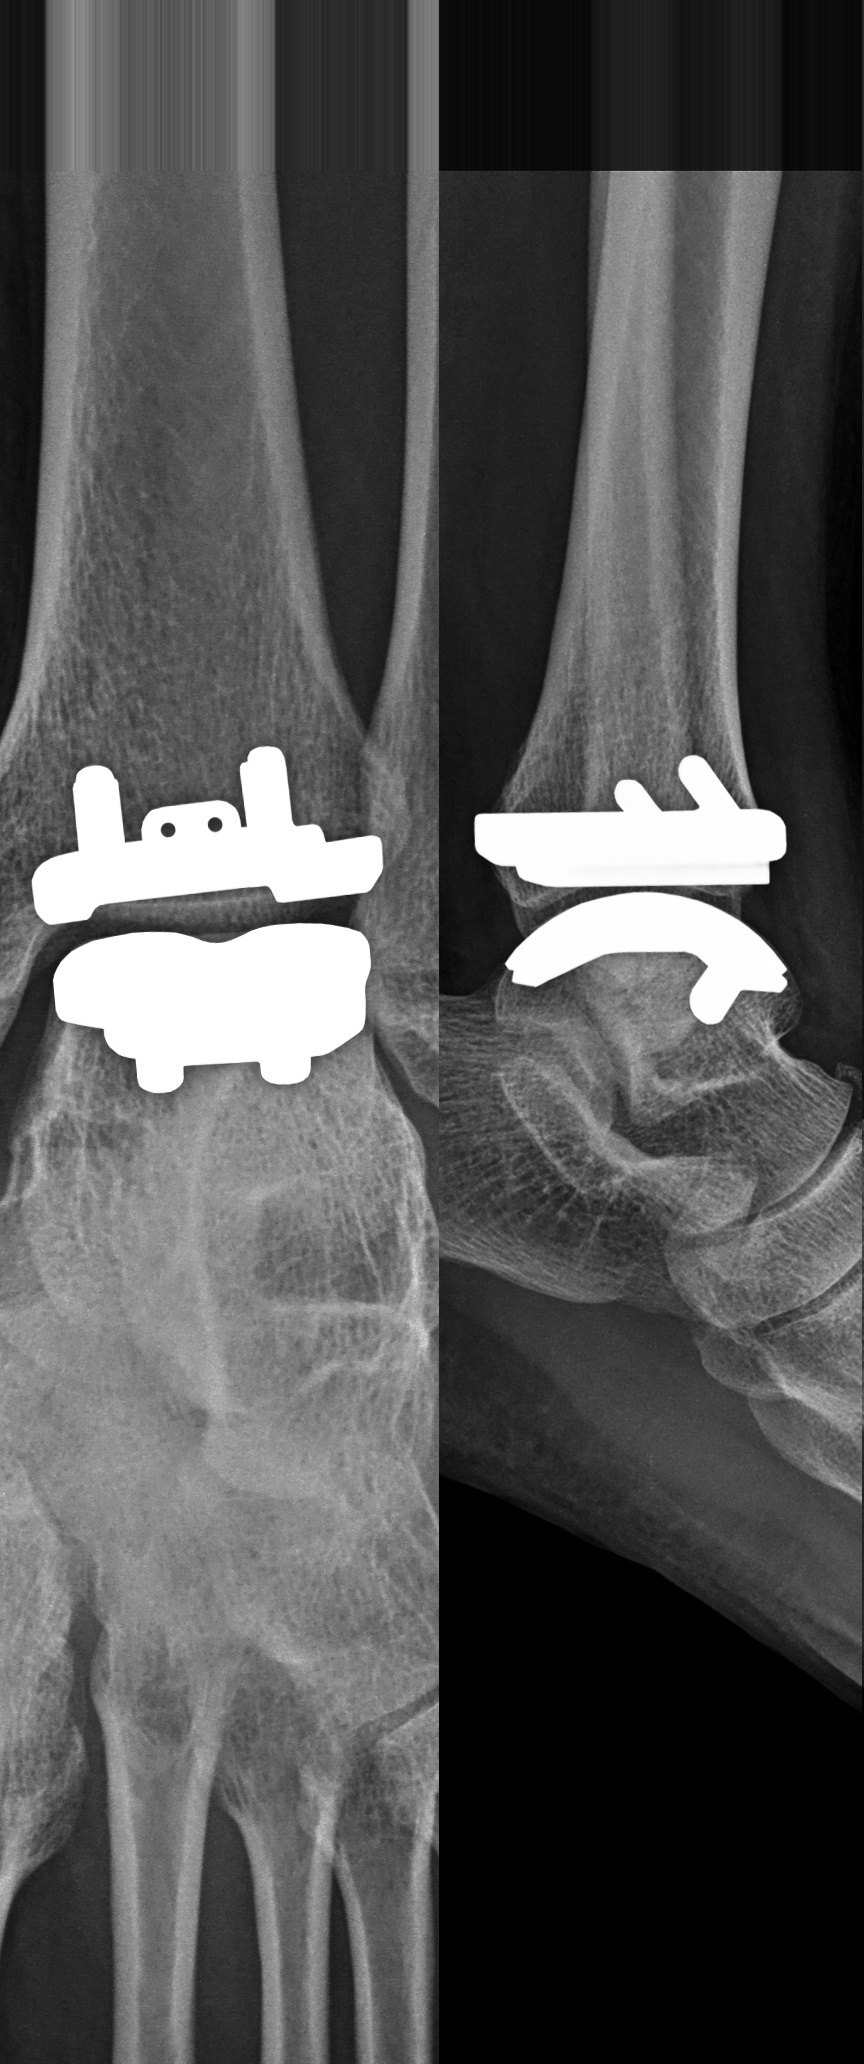Cadence-Integra: (3, 724, 410, 1116), (465, 758, 842, 1043)
